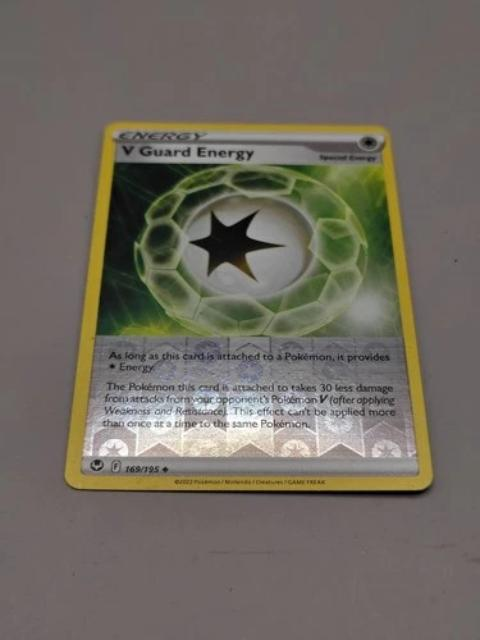Card: (61, 117, 441, 496)
Name: (115, 140, 260, 164)
